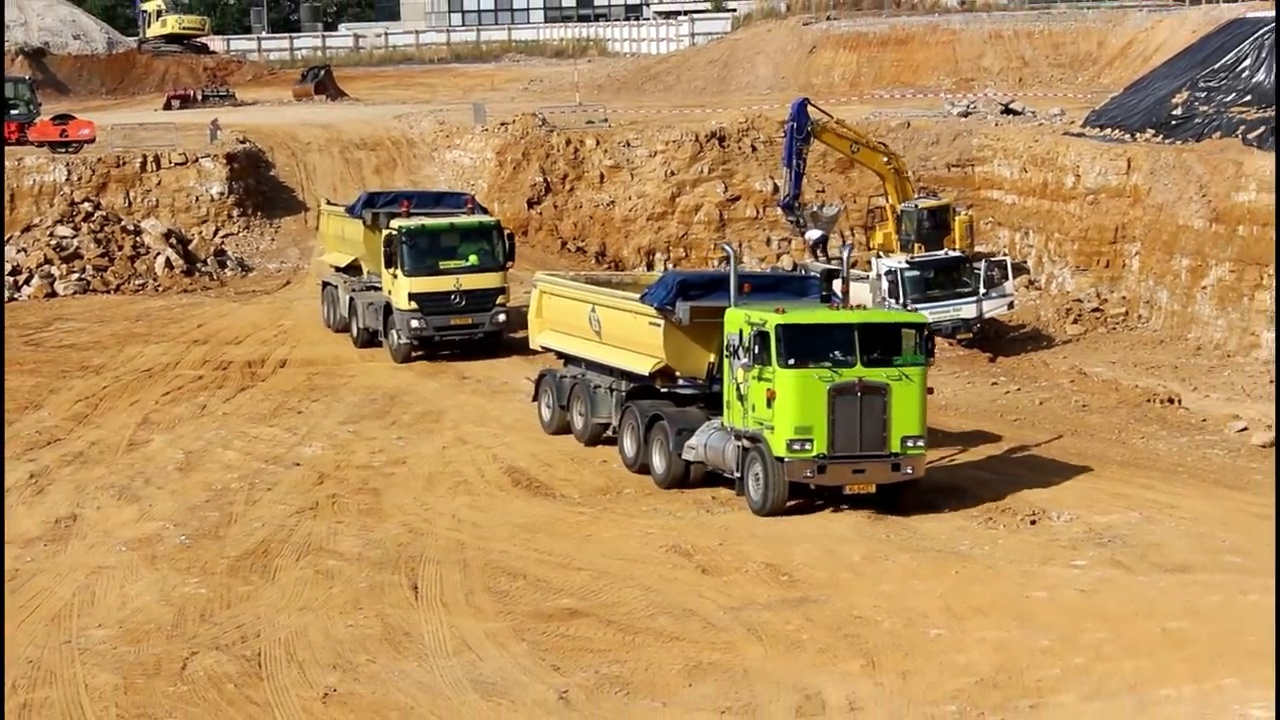compactor: (2, 76, 98, 155)
excavator: (772, 92, 1010, 299), (132, 1, 217, 57)
truck: (529, 238, 941, 520), (312, 183, 520, 365), (809, 243, 1017, 357)
worker: (802, 220, 836, 265)
